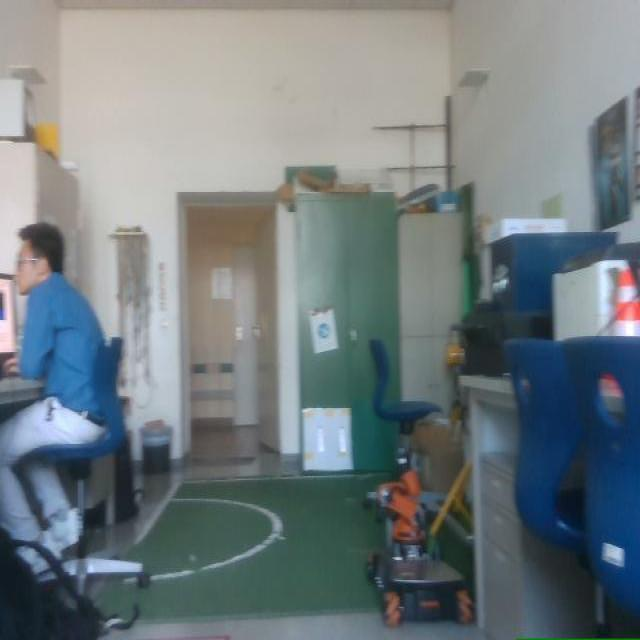humans: (0, 223, 103, 555)
objects: (32, 337, 149, 601), (564, 337, 639, 615), (504, 339, 584, 552), (0, 528, 109, 639), (369, 339, 440, 433)
